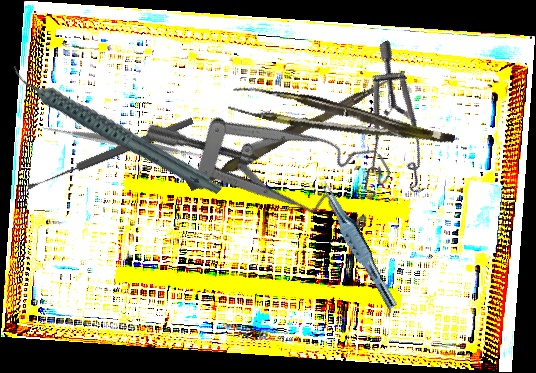Handpiece: (9, 26, 224, 232)
Pusher: (187, 71, 389, 197)
Spatula Surgical: (38, 55, 214, 231)
Speculum: (141, 31, 406, 277), (302, 39, 464, 218)
Surgical Spoon: (26, 115, 195, 192)
Tissue Forceps: (227, 73, 456, 171), (312, 178, 405, 311)
